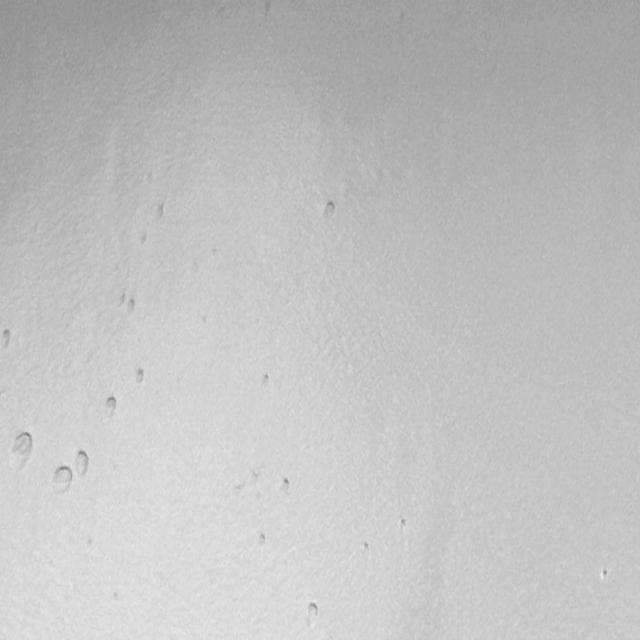pin holes: (5, 428, 39, 476), (50, 464, 76, 495), (74, 449, 93, 479), (318, 198, 339, 222), (100, 394, 118, 418), (132, 364, 150, 388), (122, 293, 140, 316), (305, 600, 322, 623), (277, 476, 294, 496), (0, 326, 14, 350), (596, 568, 611, 586), (256, 370, 270, 389), (254, 532, 268, 549), (359, 540, 371, 556), (154, 201, 164, 220), (396, 516, 407, 532), (138, 230, 147, 248)
